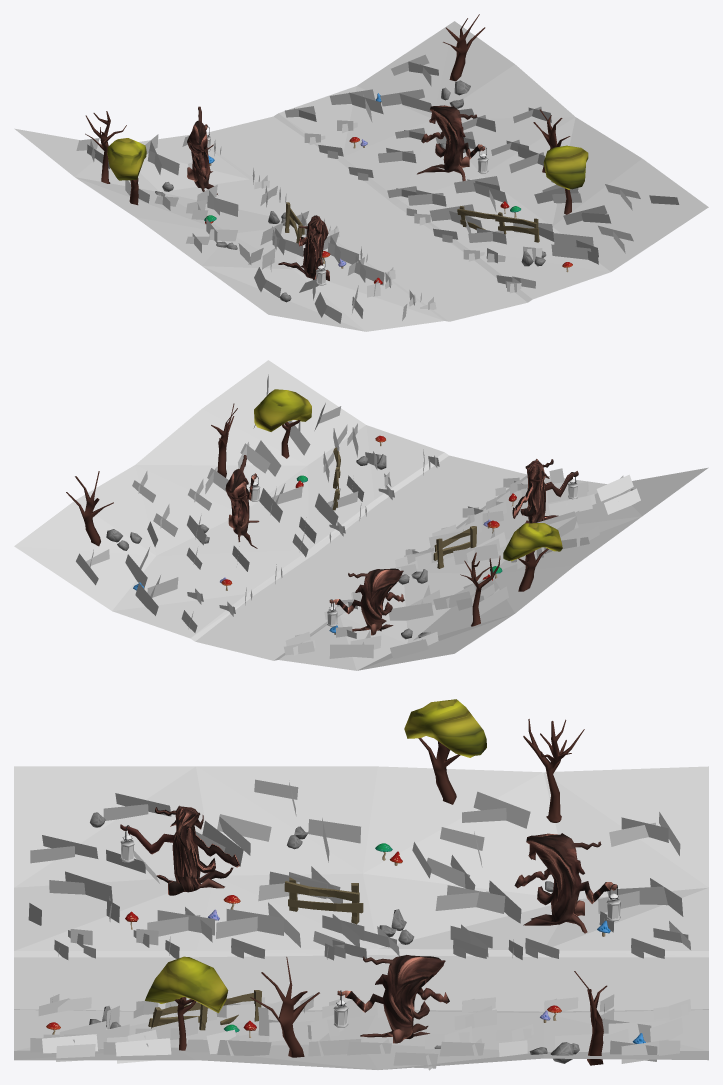
Rendered from environment1_2.fbx.
3 renders of one model, top to bottom at view 1: azimuth 30°, elevation 25°; view 2: azimuth 150°, elevation 25°; view 3: azimuth 270°, elevation 25°, orthographic. The views are drawn at different scales.
Parts seen in each view (by area): view 1: zemin1.001, Cylinder.081, Sphere.016, Cylinder.082, Sphere.017, Cylinder.085, LowPolyFence_01.008, Cube.021, Plane.2128; view 2: zemin1.001, Cylinder.085, Sphere.016, Cylinder.082, Sphere.017, Cylinder.081, Cube.021, LowPolyFence_02.016, Plane.2128, Plane.2053, Plane.2014, Plane.2081 (+5 smaller); view 3: zemin1.001, Cylinder.085, Cylinder.081, Cylinder.082, Sphere.017, Sphere.016, LowPolyFence_02.016, Plane.2128, Cube.018, LowPolyFence_01.008, Cube.017, Plane.2169 (+17 smaller).
Part boxes in pixels (x1=…): zemin1.001: x1=14, y1=21, x2=708, y2=331; Cylinder.081: x1=417, y1=105, x2=485, y2=181; Sphere.016: x1=543, y1=145, x2=588, y2=189; Cylinder.082: x1=278, y1=215, x2=329, y2=280; Sphere.017: x1=107, y1=138, x2=146, y2=180; Cylinder.085: x1=187, y1=106, x2=217, y2=194; LowPolyFence_01.008: x1=457, y1=206, x2=539, y2=242; Cube.021: x1=443, y1=14, x2=485, y2=81; Plane.2128: x1=85, y1=111, x2=126, y2=183; zemin1.001: x1=14, y1=360, x2=708, y2=670; Cylinder.085: x1=329, y1=568, x2=404, y2=635; Sphere.016: x1=254, y1=389, x2=311, y2=431; Cylinder.082: x1=512, y1=459, x2=578, y2=523; Sphere.017: x1=503, y1=523, x2=562, y2=561; Cylinder.081: x1=225, y1=455, x2=259, y2=548; Cube.021: x1=66, y1=471, x2=113, y2=546; LowPolyFence_02.016: x1=433, y1=526, x2=476, y2=568; Plane.2128: x1=460, y1=552, x2=500, y2=626; Plane.2053: x1=329, y1=644, x2=373, y2=658; Plane.2014: x1=389, y1=602, x2=433, y2=620; Plane.2081: x1=548, y1=495, x2=592, y2=515; zemin1.001: x1=14, y1=766, x2=708, y2=1069; Cylinder.085: x1=514, y1=833, x2=617, y2=933; Cylinder.081: x1=337, y1=955, x2=449, y2=1043; Cylinder.082: x1=120, y1=805, x2=240, y2=895; Sphere.017: x1=404, y1=699, x2=486, y2=757; Sphere.016: x1=145, y1=956, x2=228, y2=1013; LowPolyFence_02.016: x1=284, y1=877, x2=363, y2=924; Plane.2128: x1=523, y1=719, x2=584, y2=822; Cube.018: x1=250, y1=957, x2=319, y2=1057; LowPolyFence_01.008: x1=148, y1=990, x2=261, y2=1030; Cube.017: x1=418, y1=738, x2=460, y2=804; Plane.2169: x1=115, y1=1038, x2=171, y2=1063.
Bounding box in the file's own units: 2280 × 540 × 2250.
